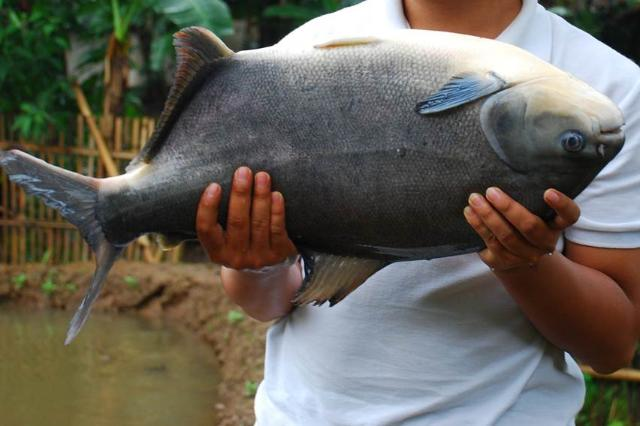Mulut: (560, 99, 634, 161)
Sirip Anal: (109, 8, 253, 190)
Sirip Dada: (412, 57, 516, 129)
Sirip Ekor: (0, 119, 142, 370)
Sirip Perut: (295, 21, 399, 71)
Sirip Punggung: (283, 233, 395, 332)
